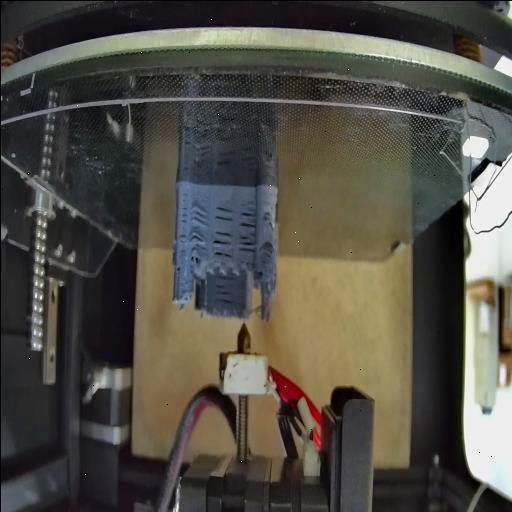cracks: (236, 202, 258, 250), (212, 273, 234, 306), (188, 228, 207, 266), (210, 229, 234, 259), (178, 186, 188, 244), (212, 202, 234, 222), (190, 200, 208, 224), (262, 240, 275, 257), (172, 258, 180, 277), (264, 220, 274, 232)
